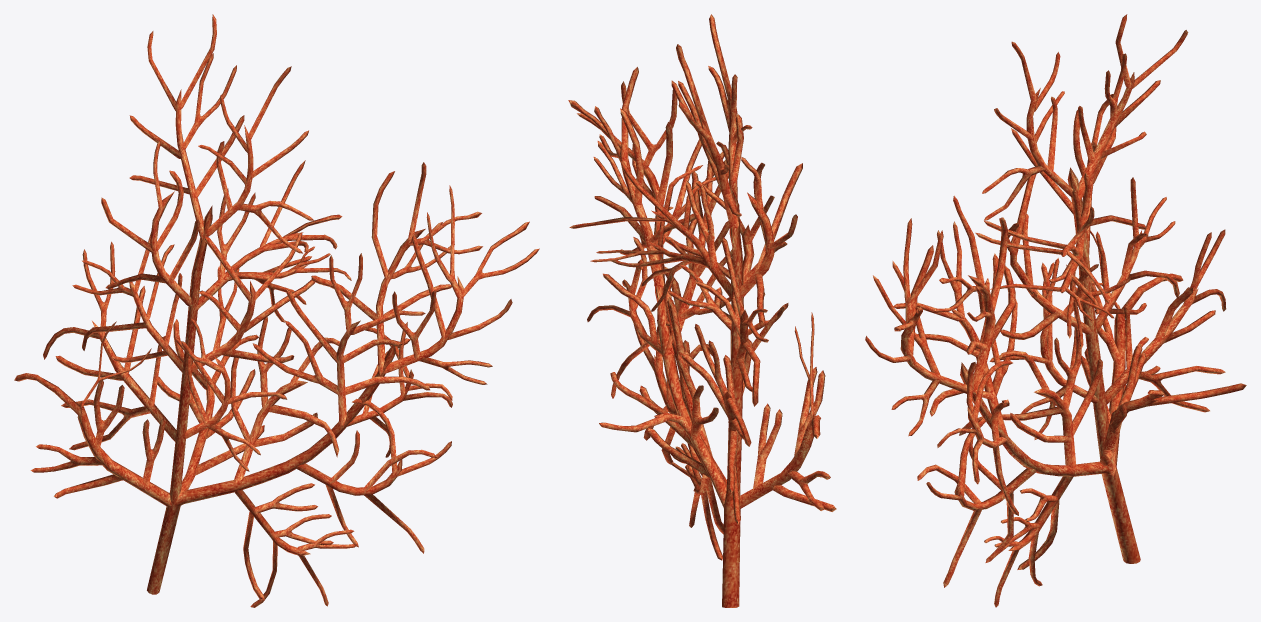
The model's file is FanCoralCluster.006_FBX_still.fbx.
The picture shows the model from 3 angles, left to right: view 1: azimuth 30°, elevation 25°; view 2: azimuth 150°, elevation 25°; view 3: azimuth 270°, elevation 25°; orthographic projection. The views are drawn at different scales.
Parts seen in each view (by area): view 1: FanCoralCluster.006_gameasset; view 2: FanCoralCluster.006_gameasset; view 3: FanCoralCluster.006_gameasset.
Part boxes in pixels (box(x1,y1,x2,y2)): FanCoralCluster.006_gameasset: box(14, 14, 539, 607); FanCoralCluster.006_gameasset: box(568, 14, 836, 607); FanCoralCluster.006_gameasset: box(865, 14, 1246, 607).
Bounding box in the file's own units: 2.52 × 3.52 × 2.11.
Materials: 1 (1 with a texture image).
